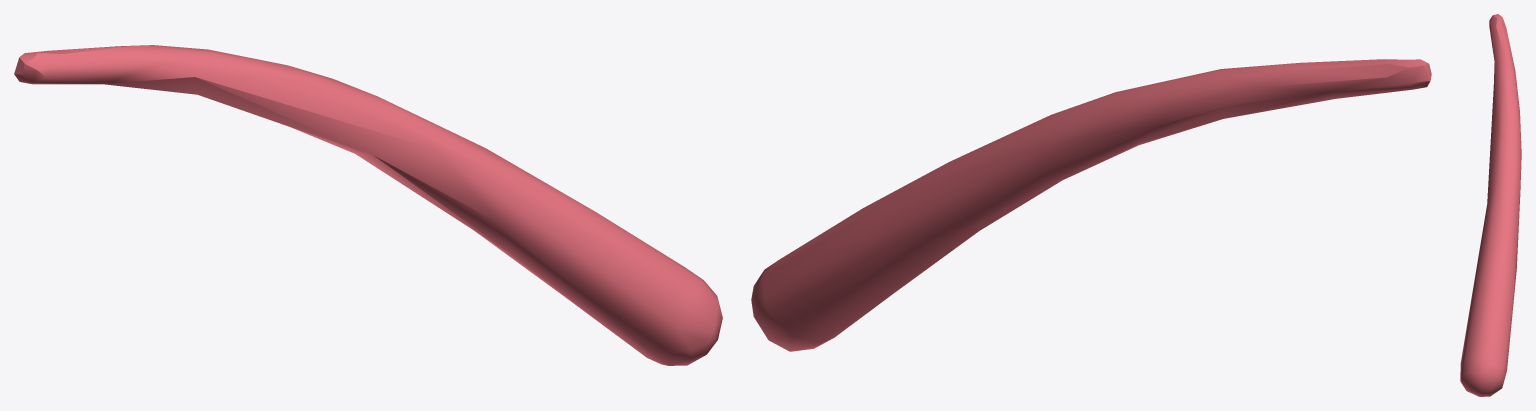
Rendered from fma13281_fj5987.glb.
3 views of the same model, side by side, from view 1: azimuth 30°, elevation 25°; view 2: azimuth 150°, elevation 25°; view 3: azimuth 270°, elevation 25° (orthographic). The views are drawn at different scales.
Visible parts, largest first — view 1: FMA13281_FJ5987; view 2: FMA13281_FJ5987; view 3: FMA13281_FJ5987.
Boxes of the visible parts, x1,y1,x2,y2 form: FMA13281_FJ5987: (14,45,722,365); FMA13281_FJ5987: (751,59,1431,351); FMA13281_FJ5987: (1460,14,1521,396).
Size of the model in its own units: 0.024 by 0.015 by 0.0037.
